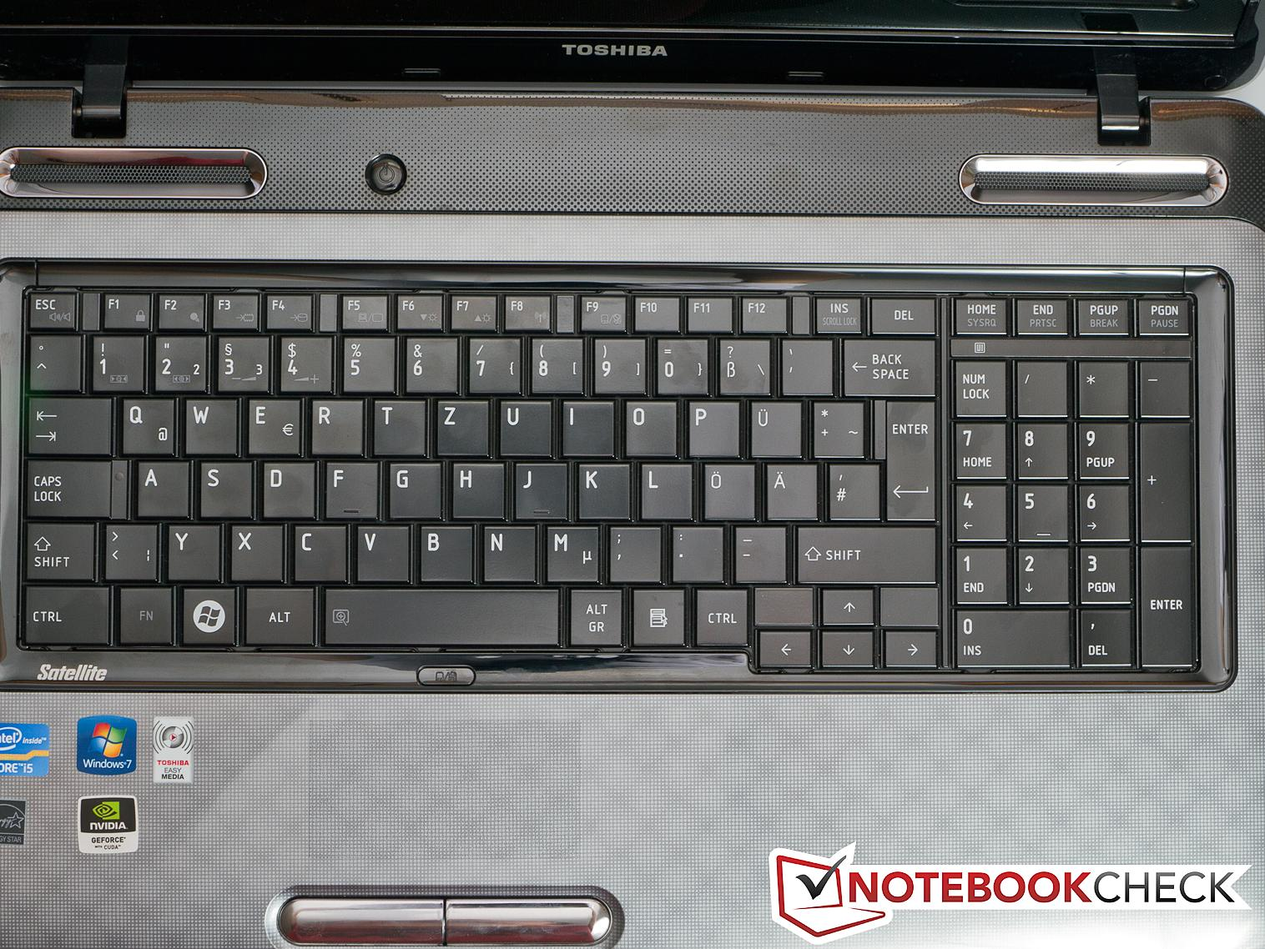0: (651, 333, 708, 394)
1: (86, 330, 143, 390)
2: (149, 330, 205, 390)
3: (211, 330, 268, 390)
4: (275, 330, 330, 389)
5: (337, 332, 392, 390)
6: (400, 331, 456, 391)
7: (464, 332, 519, 392)
8: (526, 333, 582, 393)
9: (588, 333, 645, 393)
a: (131, 455, 188, 516)
accent: (776, 334, 831, 393)
ae: (760, 458, 816, 519)
alt-left: (239, 581, 314, 643)
altgr-right: (564, 583, 622, 645)
b: (412, 519, 471, 581)
c: (289, 519, 345, 580)
caret: (24, 329, 78, 389)
comma: (604, 520, 659, 580)
d: (256, 455, 313, 517)
del: (836, 332, 934, 394)
e: (242, 393, 300, 454)
enter: (879, 391, 935, 521)
f: (320, 456, 375, 517)
g: (383, 456, 438, 517)
h: (446, 457, 501, 516)
hash: (824, 458, 877, 518)
i: (557, 396, 612, 454)
j: (509, 457, 565, 518)
k: (572, 458, 627, 518)
keyboard: (1, 250, 1228, 684)
l: (636, 458, 690, 518)
less: (99, 518, 156, 578)
m: (541, 520, 597, 581)
minus: (728, 521, 784, 580)
n: (477, 520, 533, 580)
o: (618, 396, 674, 454)
oe: (698, 459, 753, 520)
p: (681, 395, 738, 455)
plus: (808, 395, 863, 455)
point: (667, 521, 722, 580)
q: (115, 393, 174, 454)
r: (305, 394, 361, 454)
s: (193, 455, 250, 517)
shift-left: (18, 517, 93, 580)
shift-lock: (20, 454, 111, 515)
shift-right: (789, 520, 934, 580)
space: (321, 583, 557, 645), (959, 151, 1220, 202), (1, 146, 261, 196)
ss: (713, 334, 769, 393)
strg-left: (15, 580, 109, 644)
strg-right: (690, 583, 747, 645)
t: (368, 394, 424, 454)
tab: (23, 391, 109, 453)
u: (493, 395, 550, 455)
ue: (744, 395, 800, 456)
v: (350, 519, 407, 580)
w: (178, 392, 236, 454)
x: (224, 520, 281, 580)
y: (162, 519, 218, 579)
z: (431, 395, 486, 454)
